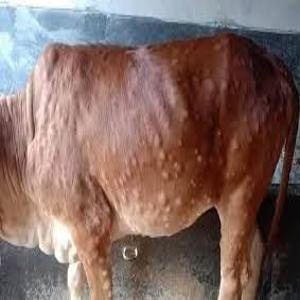lumpy skin diesease: (0, 31, 299, 299)
